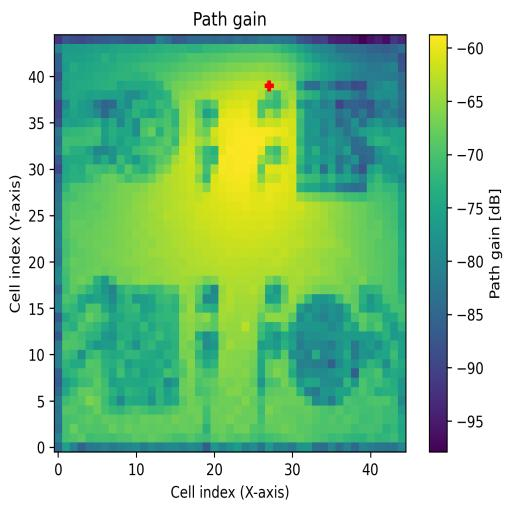Concrete: (296, 80, 376, 193)
Glass: (108, 81, 179, 184)
Metal: (290, 293, 360, 405)
Wood: (102, 284, 179, 410)
